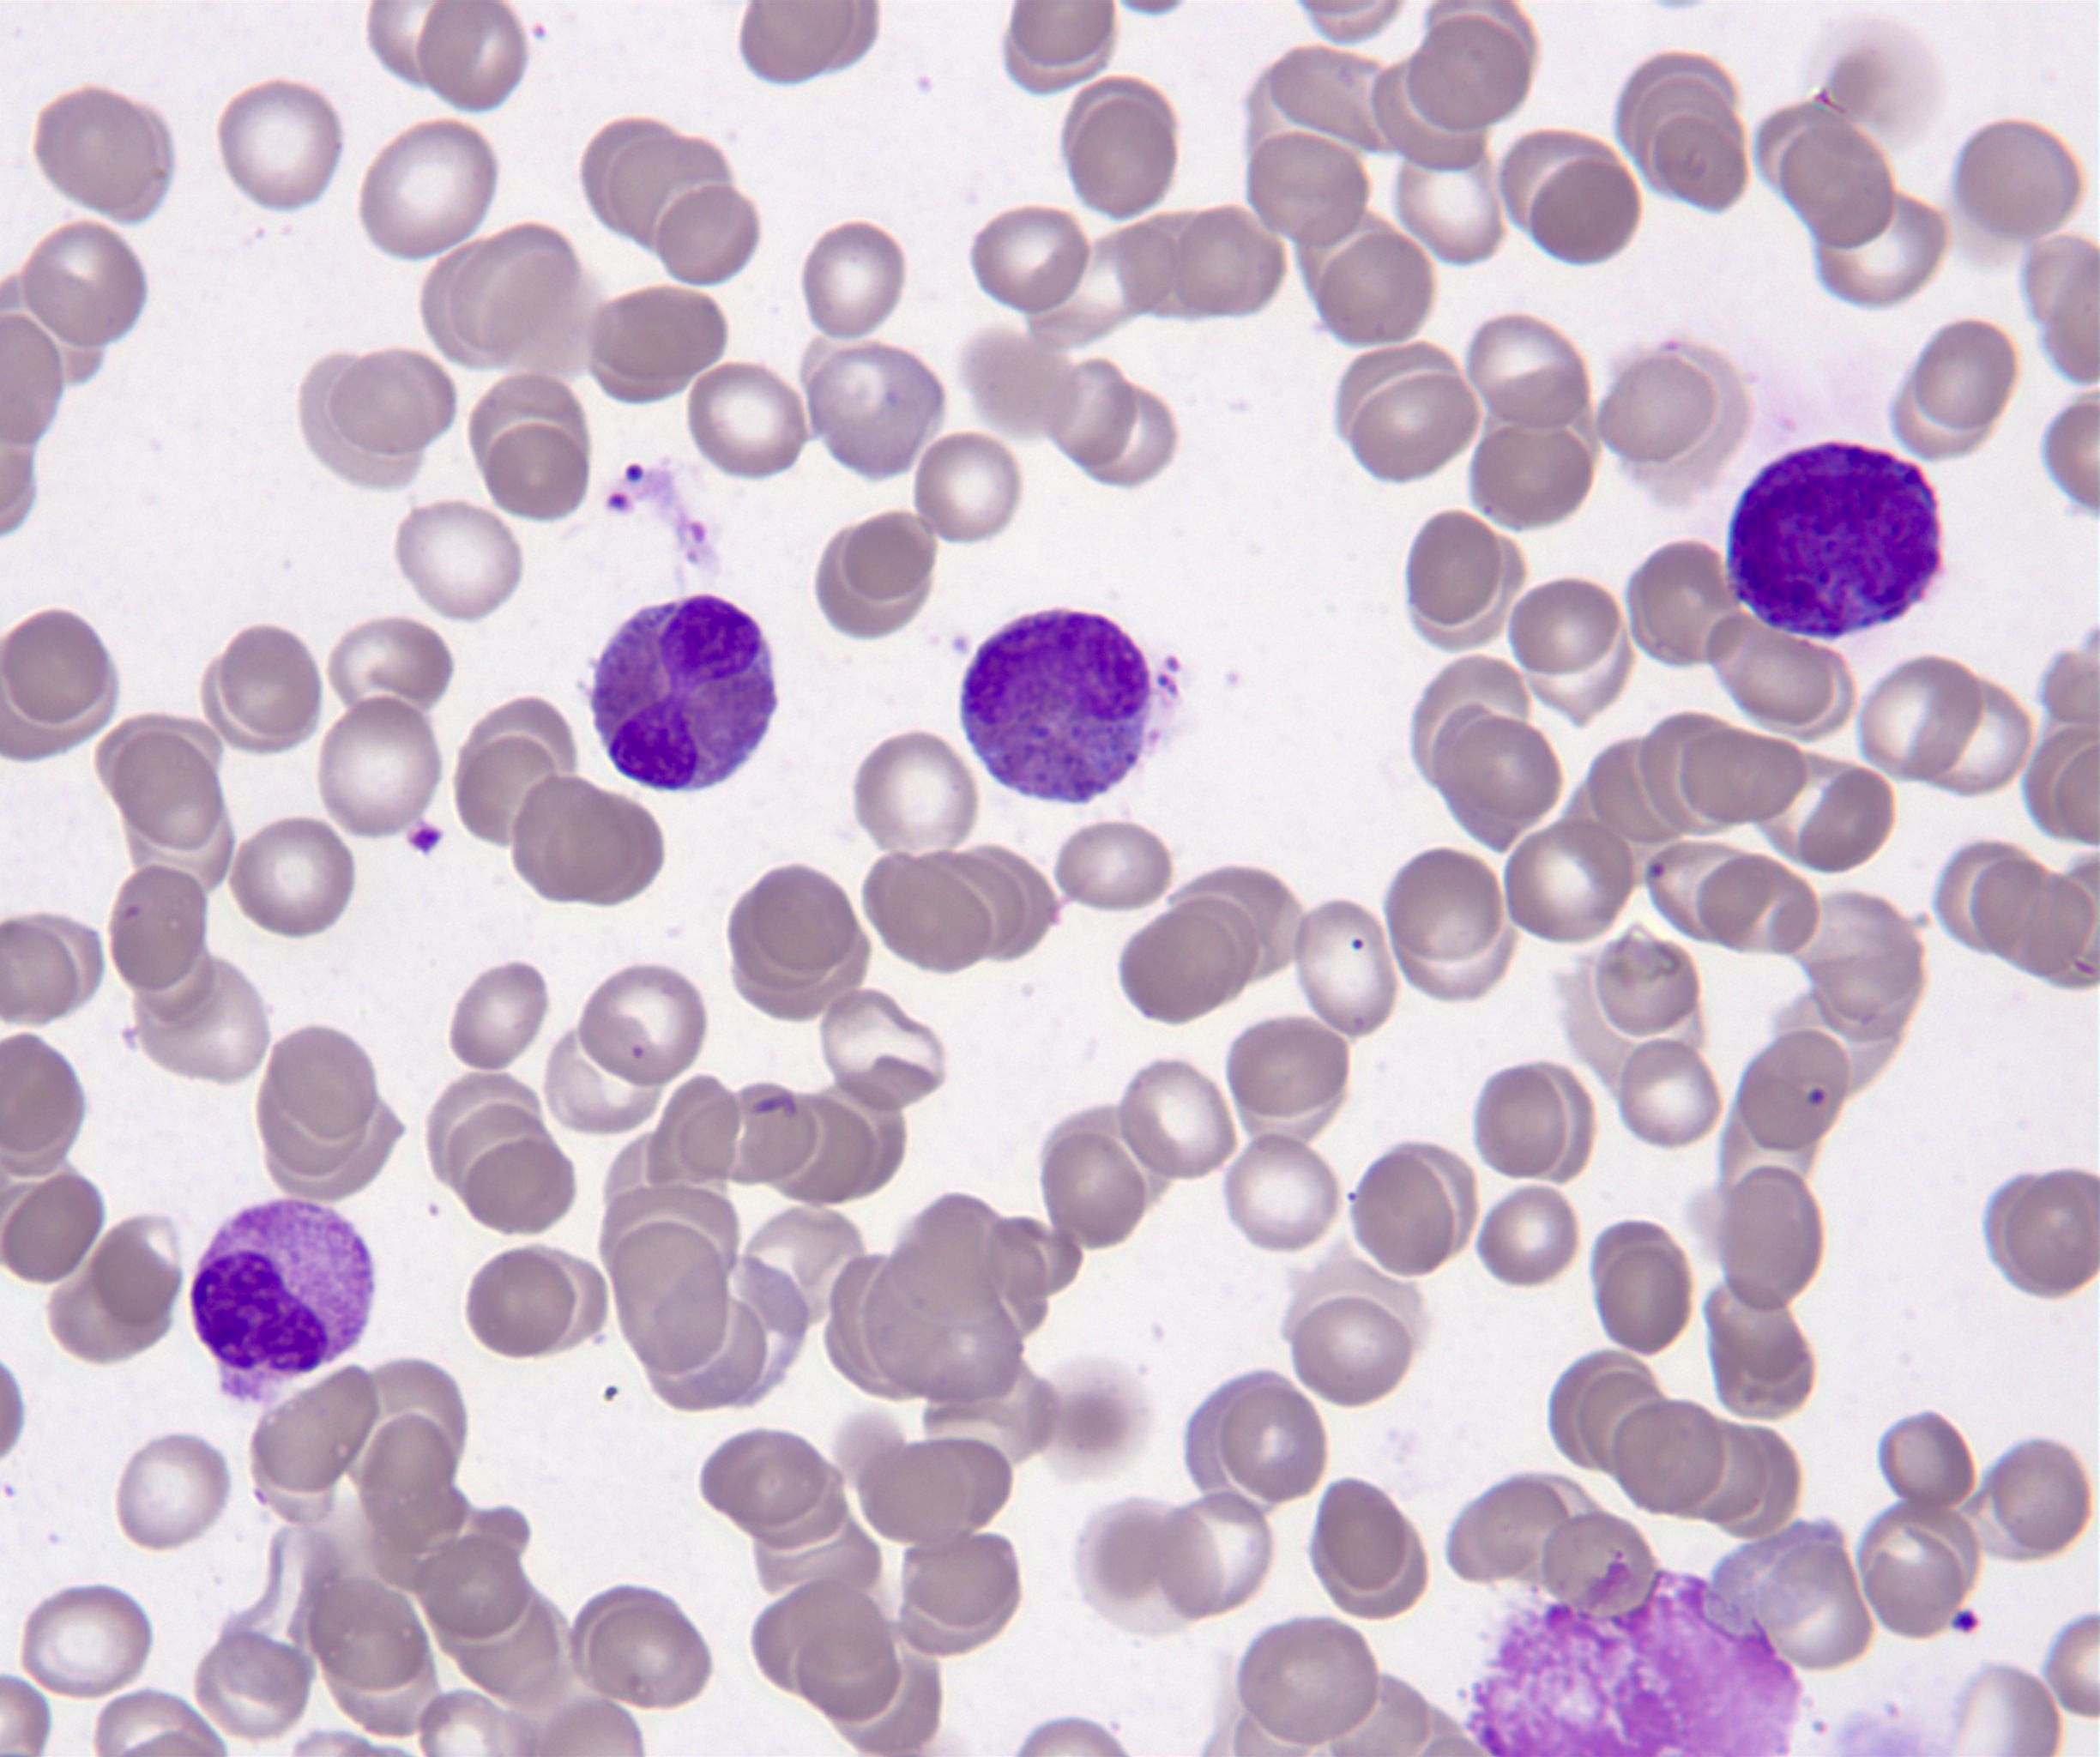5: (190, 1200, 373, 1399)
B4: (1727, 443, 1941, 637)
E3: (963, 611, 1151, 801)
E4: (591, 595, 780, 792)
x: (1465, 1553, 1803, 1757)
